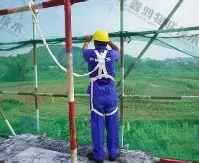safety belt: (86, 49, 124, 117)
